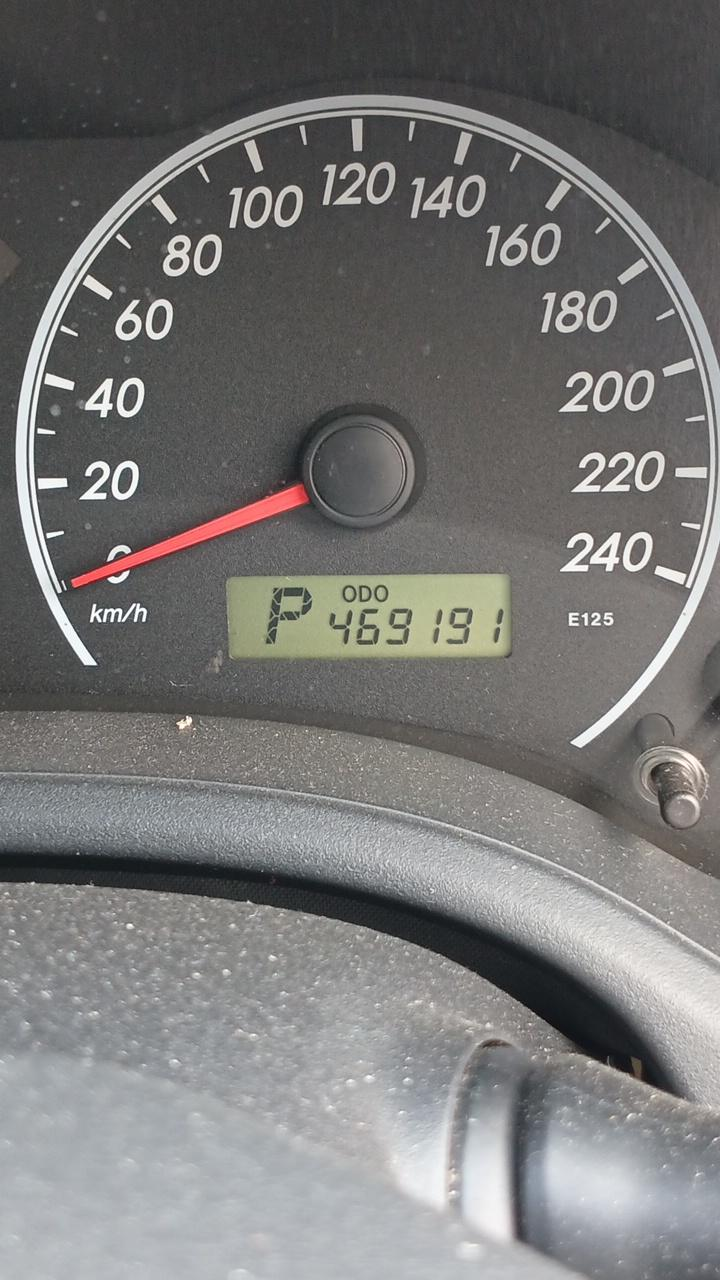1: (432, 608, 444, 645), (493, 609, 505, 644)
4: (329, 610, 354, 645)
6: (356, 609, 380, 645)
9: (386, 608, 413, 645), (446, 608, 473, 645)
X: (264, 586, 313, 646), (342, 585, 357, 603), (374, 585, 389, 602), (359, 585, 372, 602)
odometer: (223, 574, 514, 662)
